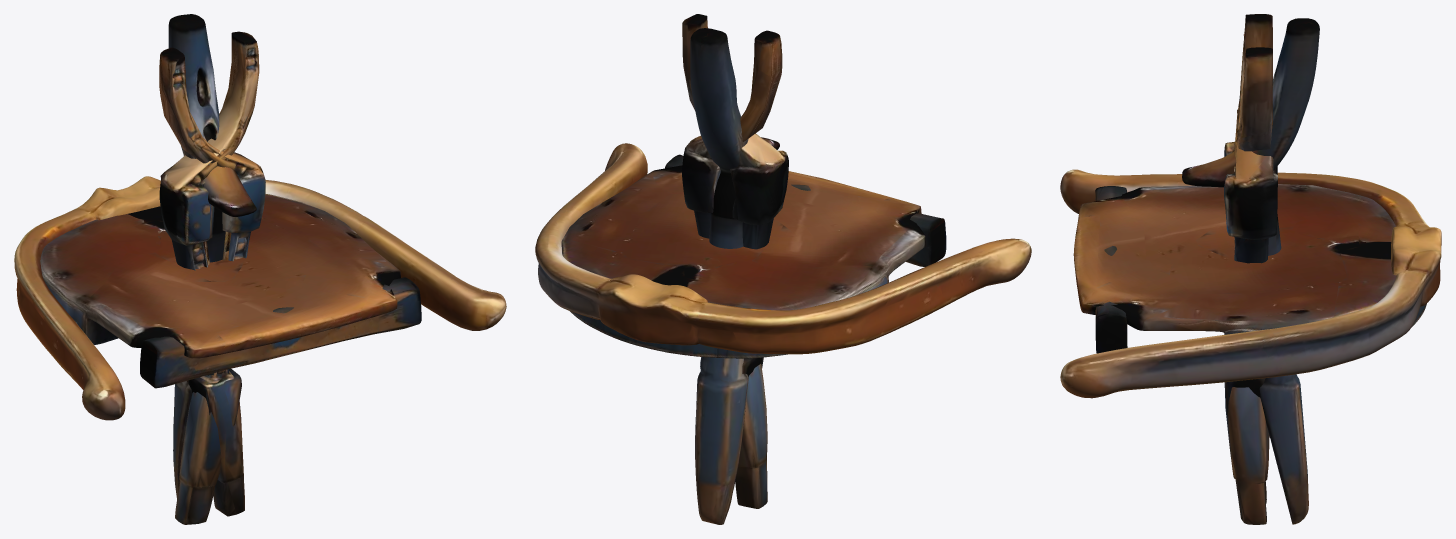
The picture shows the model from 3 angles, left to right: view 1: azimuth 30°, elevation 25°; view 2: azimuth 150°, elevation 25°; view 3: azimuth 270°, elevation 25°; orthographic projection.
Visible parts, largest first — view 1: root.0, root.1, root.3, root.5, root.4, root.2; view 2: root.0, root.1, root.4, root.5, root.3, root.2; view 3: root.0, root.1, root.4, root.3, root.5, root.2.
Boxes of the visible parts, x1,y1,x2,y2 form: root.0: (40, 194, 400, 358); root.1: (14, 176, 506, 420); root.3: (159, 31, 259, 516); root.5: (159, 47, 265, 524); root.4: (168, 14, 256, 499); root.2: (140, 277, 421, 388); root.0: (561, 165, 925, 358); root.1: (535, 143, 1031, 354); root.4: (690, 28, 779, 524); root.5: (682, 30, 782, 508); root.3: (682, 14, 788, 376); root.2: (665, 154, 946, 266); root.0: (1073, 184, 1426, 334); root.1: (1060, 169, 1441, 398); root.4: (1182, 18, 1319, 524); root.3: (1224, 47, 1277, 524); root.5: (1224, 14, 1277, 503); root.2: (1095, 186, 1127, 353).
Size of the model in its own units: 27148 by 30773 by 21405.
1 material, 1 textured.
